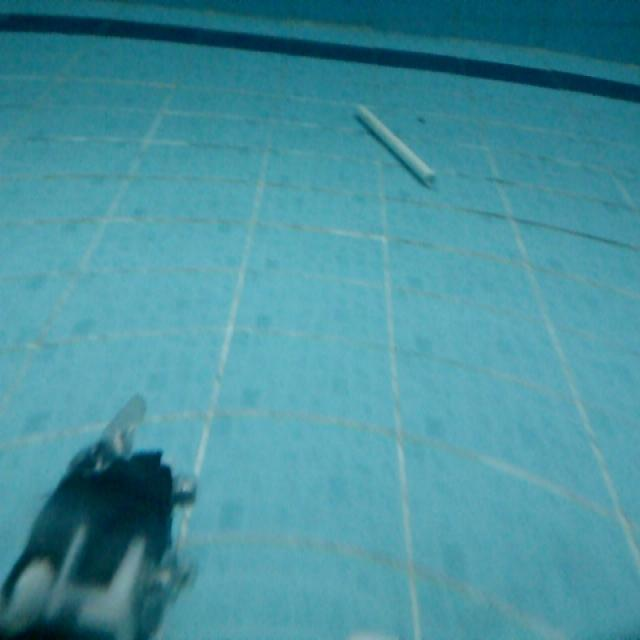Cube: (350, 100, 441, 190)
